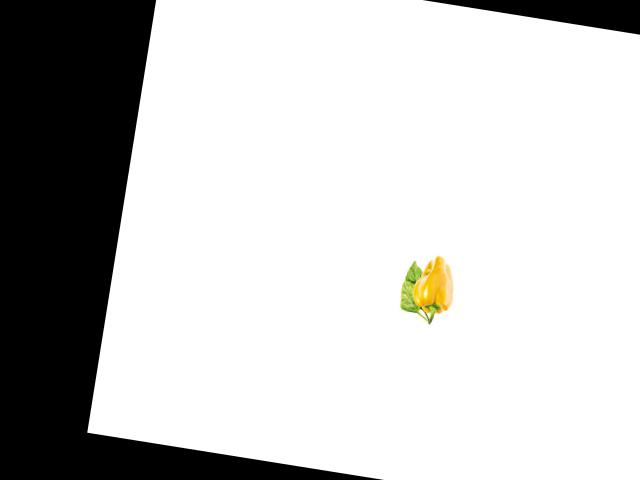bell_pepper: (406, 250, 462, 329)
